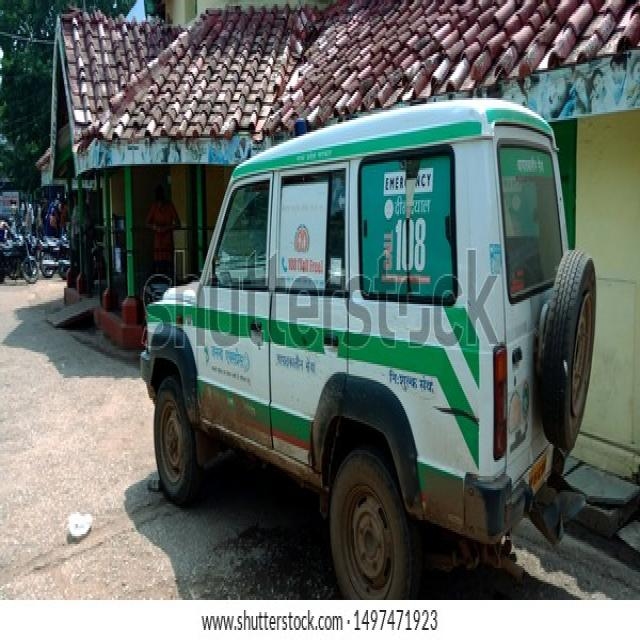ambulance: (140, 96, 596, 598)
